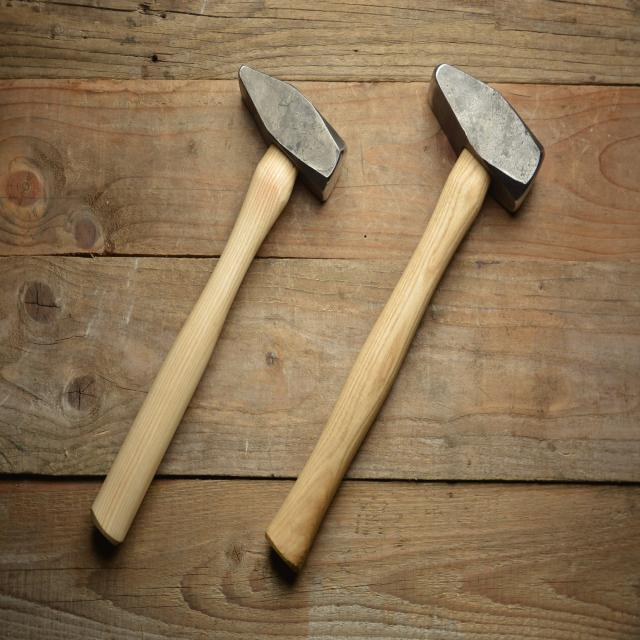hammer: (260, 57, 550, 579), (84, 58, 352, 561)
